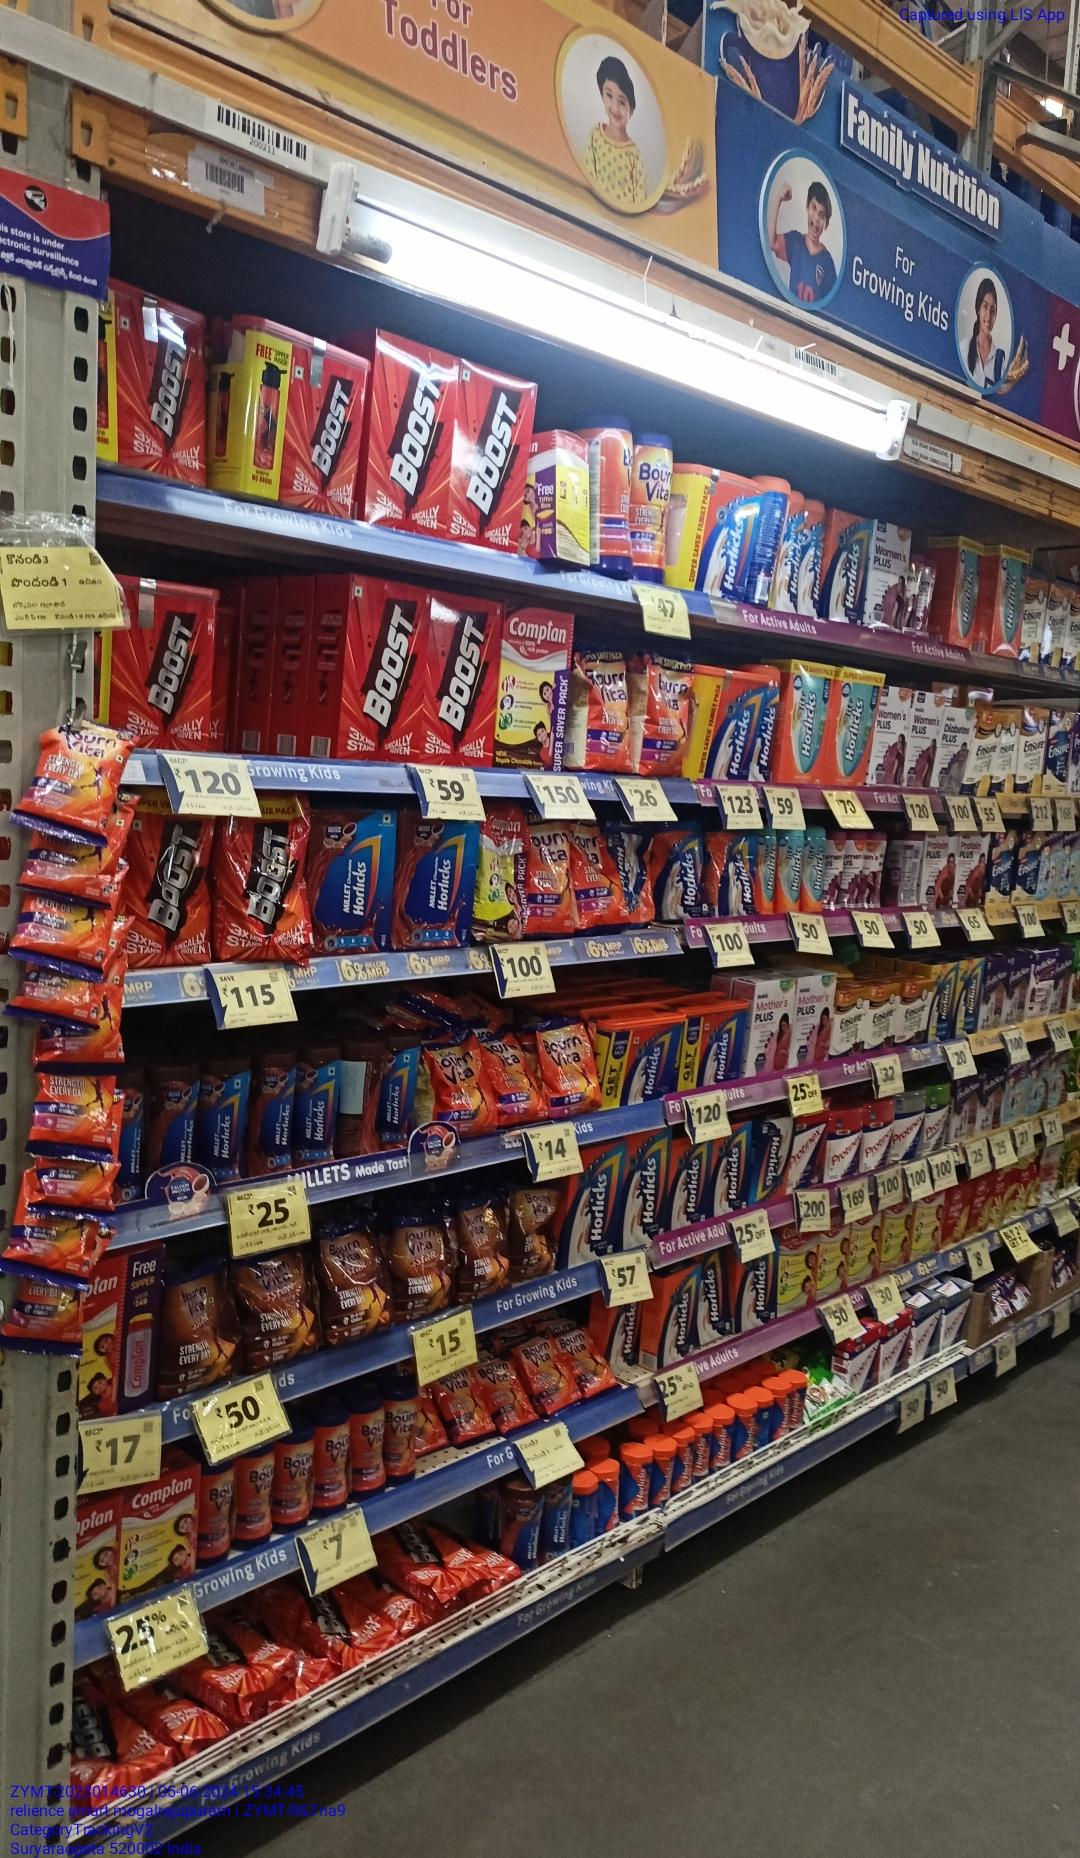HORLICKS_LITE_REGULAR_MALT_500_GM_JAR: (802, 828, 825, 919), (777, 832, 798, 915), (757, 829, 778, 917)
HORLICK_CLASSIC_MALT_500_G_PACK: (669, 1130, 712, 1233), (660, 1264, 698, 1362), (753, 1119, 796, 1206), (715, 1121, 751, 1220), (734, 1258, 771, 1324)
HORLICK_MALT_1_KG_CONTAINER: (600, 1011, 683, 1102), (702, 480, 764, 595), (683, 995, 750, 1090)
PROTINEX_CHOCOLATE_400_G_JAR: (829, 1111, 865, 1182), (861, 1103, 895, 1171)
PROTINEX_ORIGINAL_400_G_JAR: (891, 1090, 927, 1165)
